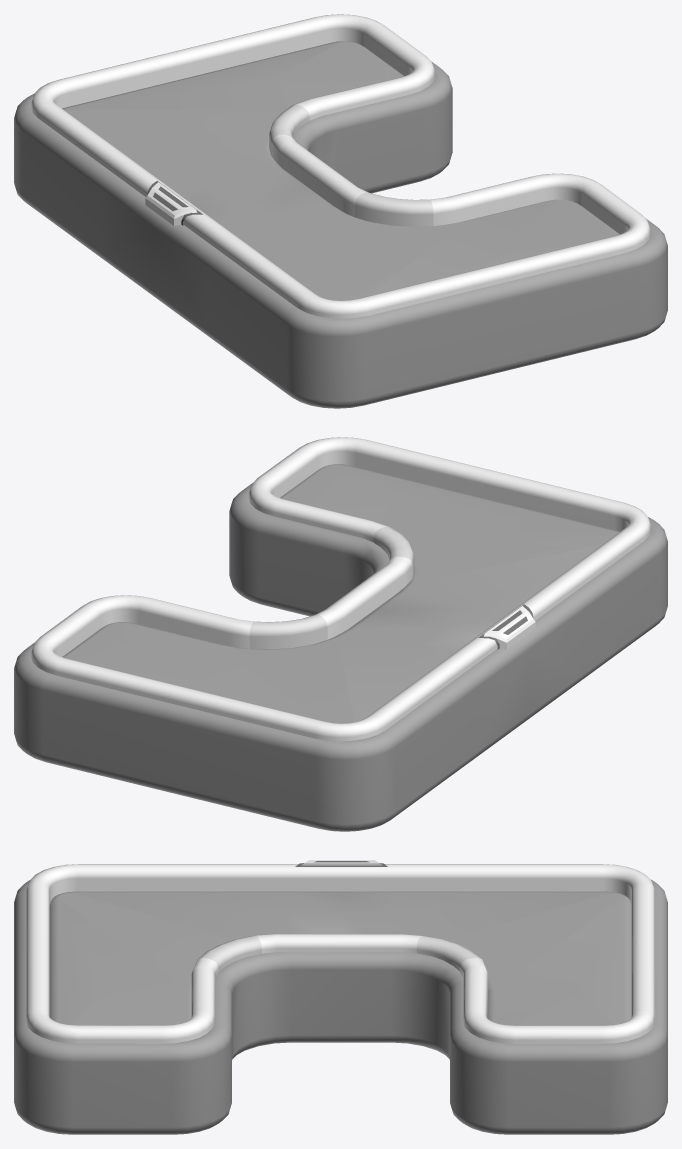
The model's file is Model_Block_C_New.fbx.
The picture shows the model from 3 angles, top to bottom: view 1: azimuth 30°, elevation 25°; view 2: azimuth 150°, elevation 25°; view 3: azimuth 270°, elevation 25°; orthographic projection.
Visible parts, largest first — view 1: Block_C_BLS_BG, Block_C_Short1_BLS_Water, Block_C_BLS_Stroke; view 2: Block_C_BLS_BG, Block_C_Short1_BLS_Water, Block_C_BLS_Stroke; view 3: Block_C_BLS_BG, Block_C_Short1_BLS_Water, Block_C_BLS_Stroke.
Part boxes in pixels (x1,y1,x2,y2): Block_C_BLS_BG: (14,61,667,408); Block_C_Short1_BLS_Water: (62,41,619,300); Block_C_BLS_Stroke: (31,14,650,318); Block_C_BLS_BG: (14,483,667,831); Block_C_Short1_BLS_Water: (62,464,619,723); Block_C_BLS_Stroke: (31,437,651,741); Block_C_BLS_BG: (14,879,667,1134); Block_C_Short1_BLS_Water: (49,891,631,1025); Block_C_BLS_Stroke: (26,860,654,1043).
Bounding box in the file's own units: 197 × 51.35 × 295.
2 materials, 1 textured.
